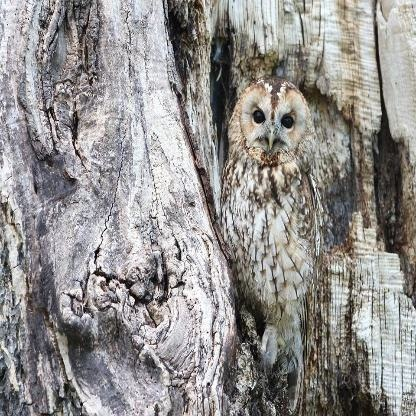Owl: (224, 77, 320, 361)
